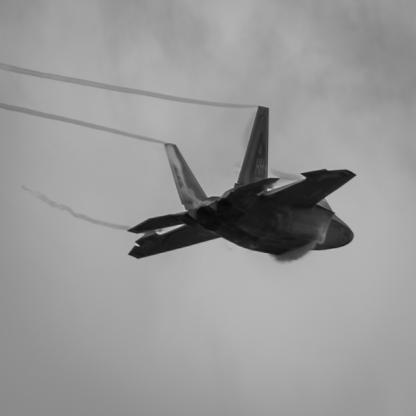F22: (128, 107, 358, 260)
